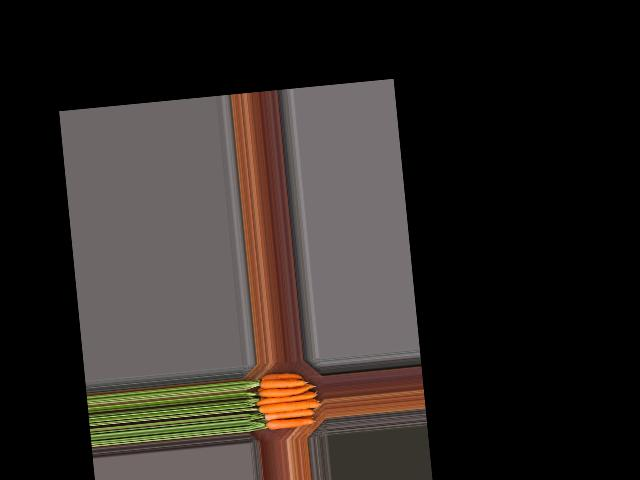carrot: (259, 367, 308, 384)
